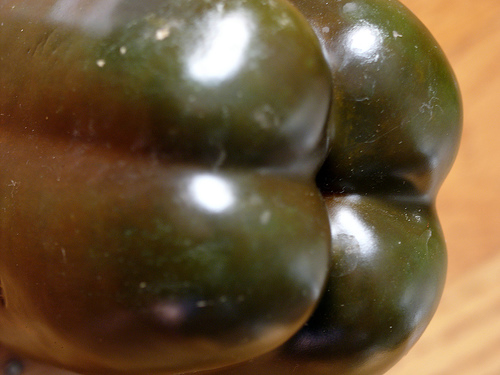capsicum: (0, 0, 464, 374)
